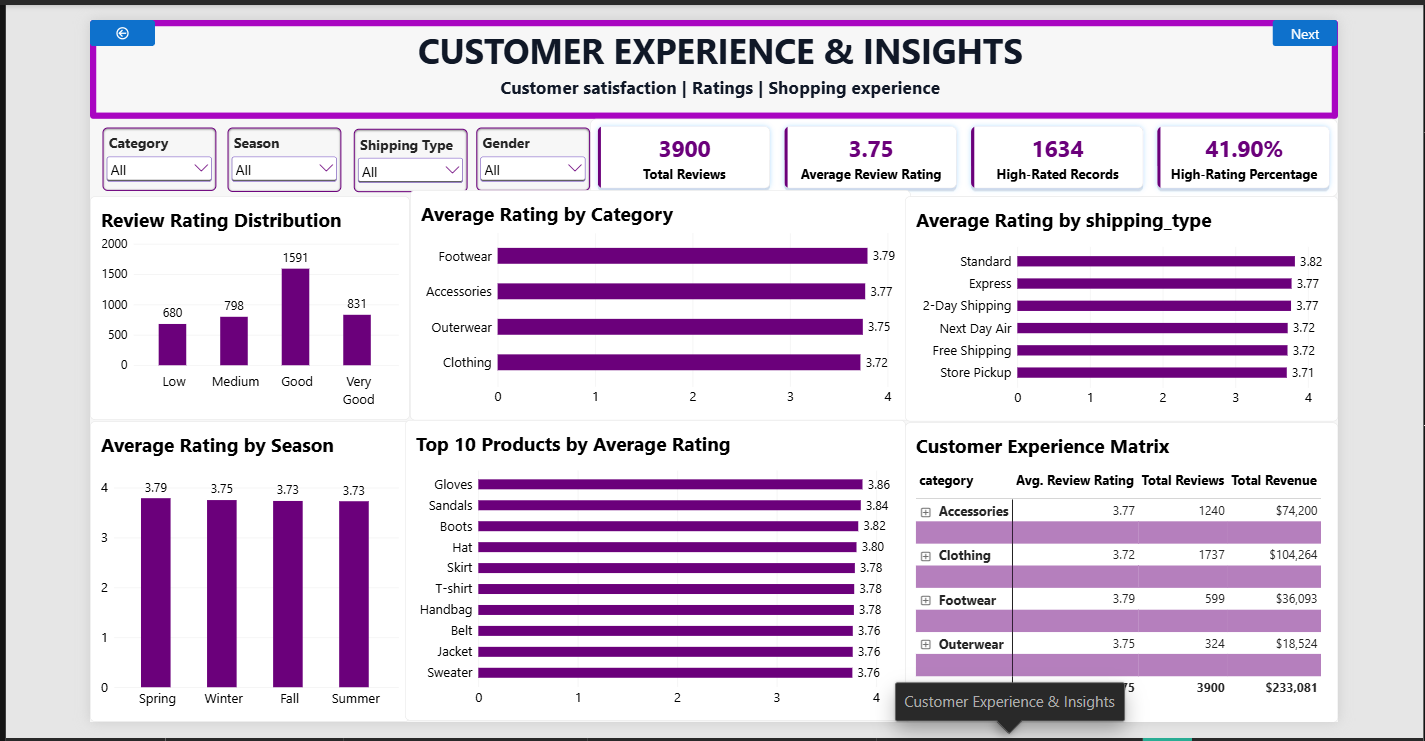

Layout of this report page (visuals, bound fields, positions):
{"tool":"powerbi","page":{"name":"Customer Experience & Insights","canvas":[1920,1080],"ordinal":3},"visuals":[{"type":"textbox","title":"CUSTOMER EXPERIENCE & INSIGHTS","box":[0,0,1920,152],"z":0},{"type":"cardVisual","fields":{"Data":["customer_data.Total Reviews","customer_data.Average Review Rating","customer_data.High-Rated Records","customer_data.High-Rating Percentage"]},"box":[769.3,152.8,1150.3,119.6],"z":1000},{"type":"clusteredColumnChart","title":"Review Rating Distribution","fields":{"Category":["customer_data.Rating Band"],"Y":["customer_data.Total Reviews"]},"box":[0,272,492,344],"z":2000},{"type":"slicer","fields":{"Values":["customer_data.gender"]},"box":[594.5,165.6,174.8,97.5],"z":3000},{"type":"slicer","fields":{"Values":["customer_data.category"]},"box":[18.4,165.6,174.8,97.5],"z":4000},{"type":"slicer","fields":{"Values":["customer_data.season"]},"box":[211.7,165.6,174.8,99.4],"z":5000},{"type":"slicer","fields":{"Values":["customer_data.shipping_type"]},"box":[404.9,167.5,174.8,97.5],"z":6000},{"type":"clusteredBarChart","title":"Average Rating by Category","fields":{"Category":["customer_data.category"],"Y":["customer_data.Average Review Rating"]},"box":[492,262,770,354],"z":6001},{"type":"actionButton","box":[0,0,100,40],"z":6002},{"type":"clusteredColumnChart","title":"Average Rating by Season","fields":{"Category":["customer_data.season"],"Y":["customer_data.Average Review Rating"]},"box":[0,618,492,462],"z":6003},{"type":"clusteredBarChart","title":"Average Rating by shipping_type","fields":{"Category":["customer_data.shipping_type"],"Y":["customer_data.Average Review Rating"]},"box":[1254,272,666,346],"z":6004},{"type":"clusteredBarChart","title":"Top 10 Products by Average Rating","fields":{"Category":["customer_data.item_purchased"],"Y":["customer_data.Average Review Rating"]},"box":[484,616,770,462],"z":6005},{"type":"pivotTable","title":"Customer Experience Matrix","fields":{"Rows":["customer_data.category","customer_data.item_purchased"],"Values":["customer_data.Average Review Rating","customer_data.Total Reviews","customer_data.Total Revenue"]},"box":[1253.4,618.4,666.3,462],"z":6006},{"type":"actionButton","box":[1820,0,100,40],"z":6007}]}

Visuals, with their boxes on the page's 1920x1080 design canvas (x1, y1, x2, y2). These are canvas units, not pixel positions in the 1425x741 screenshot, which may show the page scaled, cropped or inside an application window:
"CUSTOMER EXPERIENCE & INSIGHTS" textbox: 0 0 1920 152
cardVisual - customer_data.Total Reviews x customer_data.Average Review Rating: 769 153 1920 272
"Review Rating Distribution" clusteredColumnChart: 0 272 492 616
slicer - customer_data.gender: 594 166 769 263
slicer - customer_data.category: 18 166 193 263
slicer - customer_data.season: 212 166 386 265
slicer - customer_data.shipping_type: 405 168 580 265
"Average Rating by Category" clusteredBarChart: 492 262 1262 616
actionButton: 0 0 100 40
"Average Rating by Season" clusteredColumnChart: 0 618 492 1080
"Average Rating by shipping_type" clusteredBarChart: 1254 272 1920 618
"Top 10 Products by Average Rating" clusteredBarChart: 484 616 1254 1078
"Customer Experience Matrix" pivotTable: 1253 618 1920 1080
actionButton: 1820 0 1920 40
